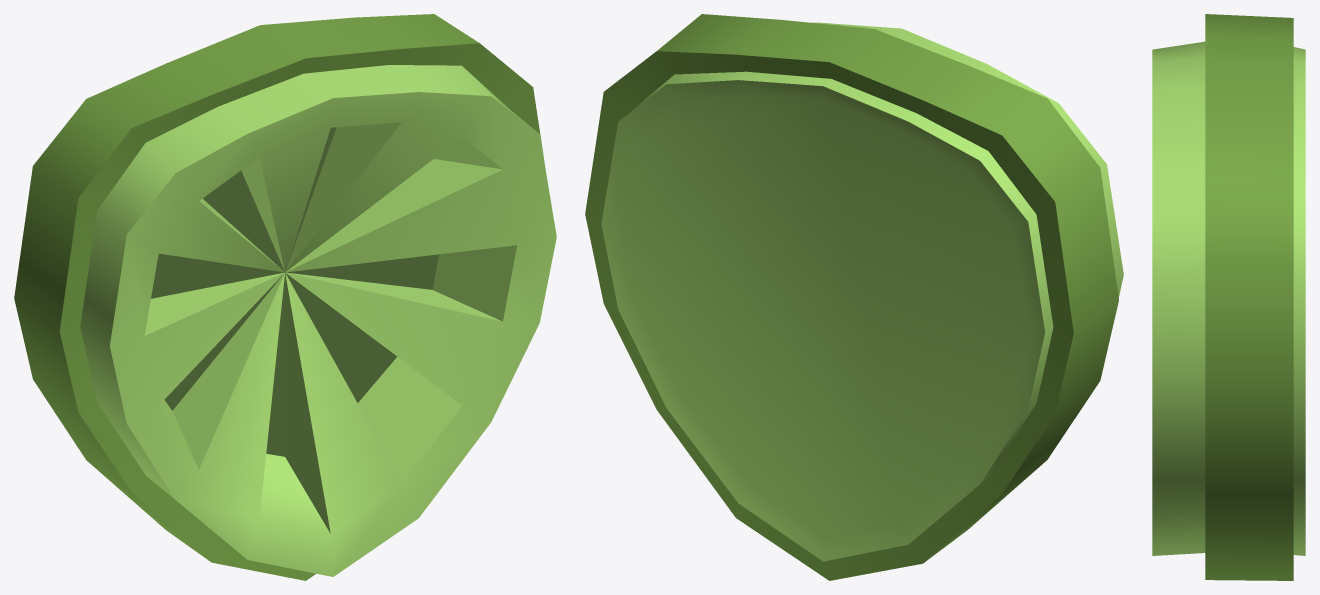
Rendered from geo_item_shield.fbx.
3 renders of one model, left to right at view 1: azimuth 30°, elevation 25°; view 2: azimuth 150°, elevation 25°; view 3: azimuth 270°, elevation 25°, orthographic. The views are drawn at different scales.
Parts seen in each view (by area): view 1: Cylinder.001; view 2: Cylinder.001; view 3: Cylinder.001.
Part boxes in pixels (x1,y1,x2,y2): Cylinder.001: (14, 14, 556, 580); Cylinder.001: (585, 14, 1123, 580); Cylinder.001: (1152, 14, 1305, 580).
Size of the model in its own units: 241 by 244 by 67.09.
